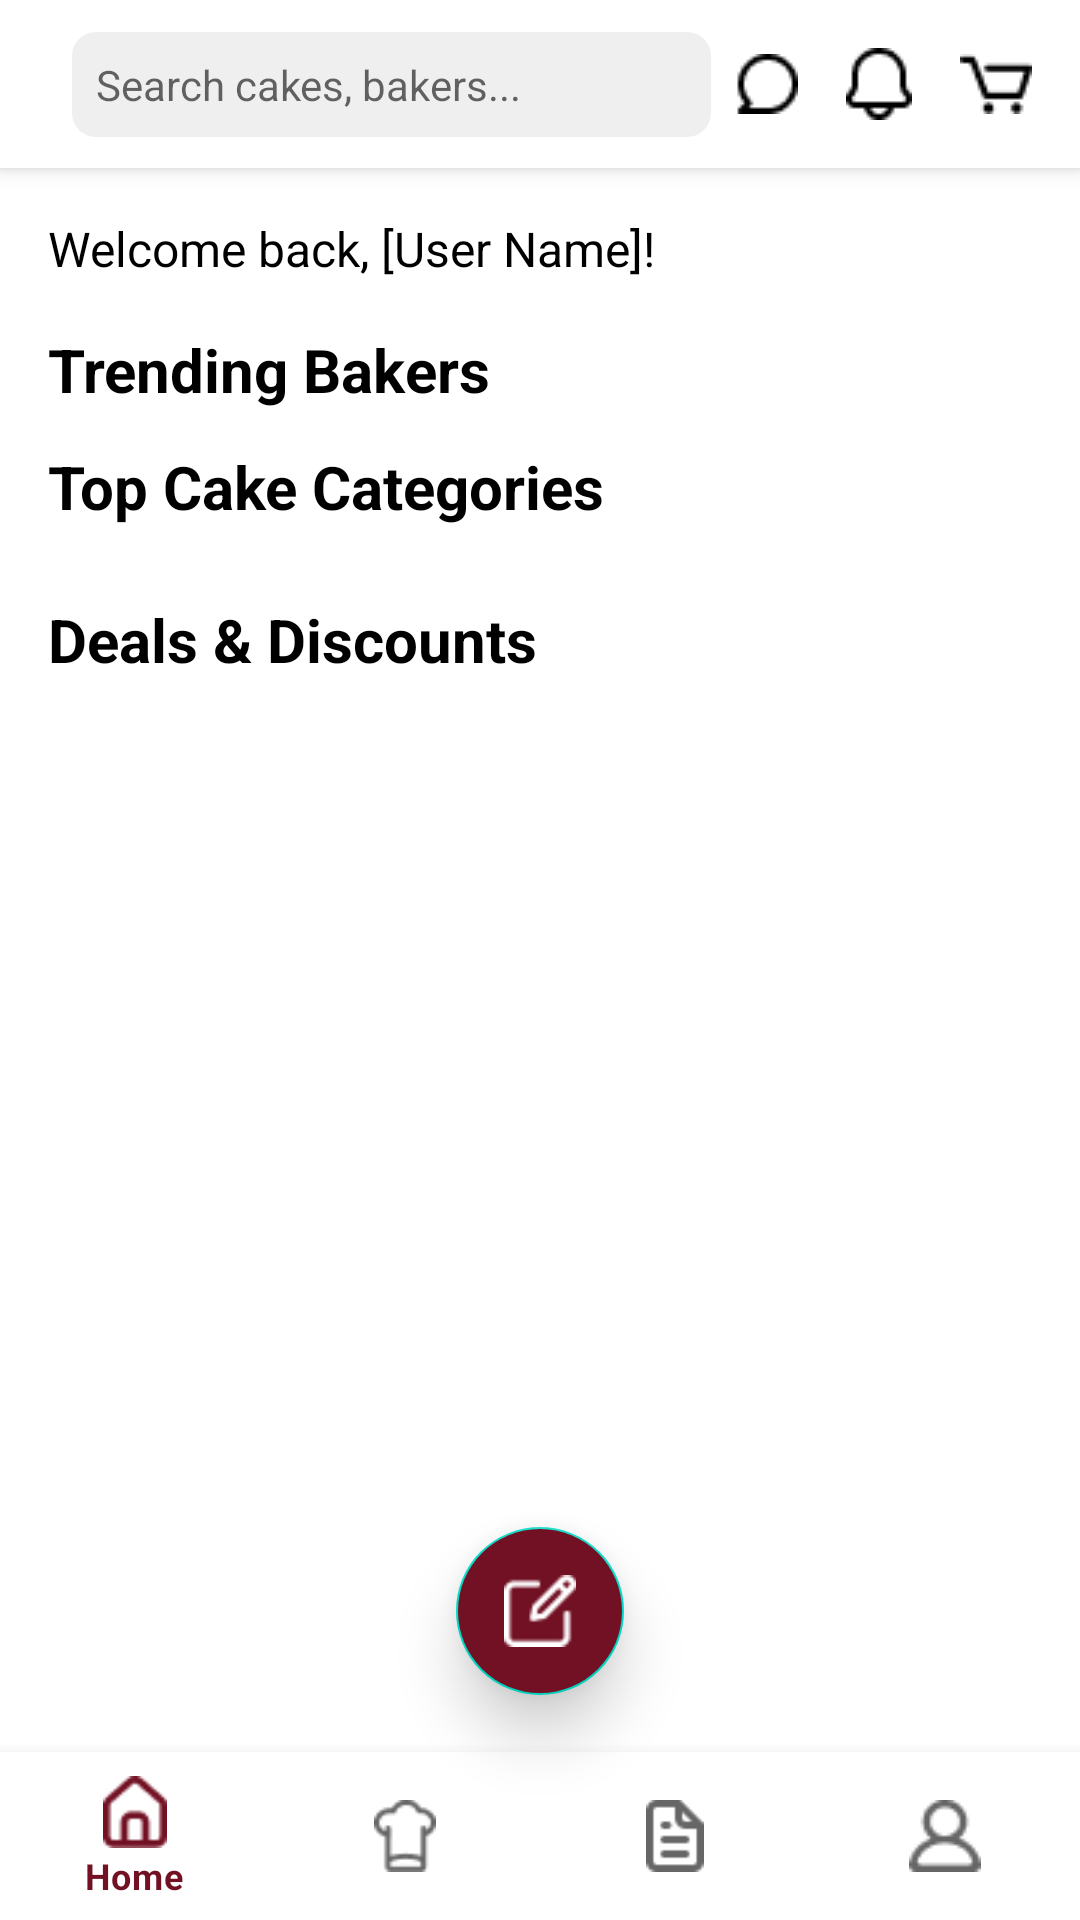

Icons on this 1080 × 1920 Android screen, each with the point to tap as [x,y]:
Cart: [996,84]
Chat: [767,84]
Notifications: [879,84]
